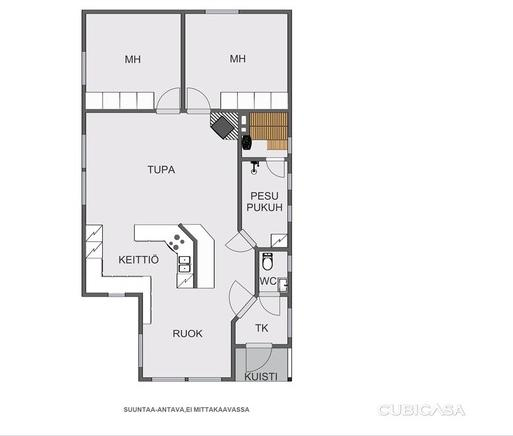bathroom: (259, 250, 289, 295)
door: (226, 280, 255, 317), (244, 341, 272, 375), (225, 228, 258, 253), (155, 87, 182, 116), (185, 86, 212, 114), (258, 289, 282, 319), (265, 156, 286, 177)
perimeter: (82, 8, 292, 385)
window: (79, 132, 90, 172), (202, 7, 242, 17), (79, 169, 89, 209), (80, 49, 89, 88), (136, 330, 144, 371), (149, 375, 189, 383), (186, 376, 225, 383), (286, 307, 294, 341), (285, 201, 294, 224), (105, 291, 128, 299), (286, 171, 294, 193), (287, 253, 294, 273), (287, 136, 294, 156)
